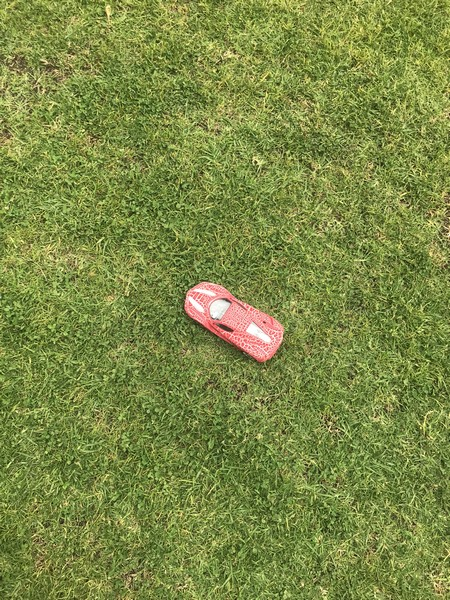RC: (183, 281, 285, 365)
